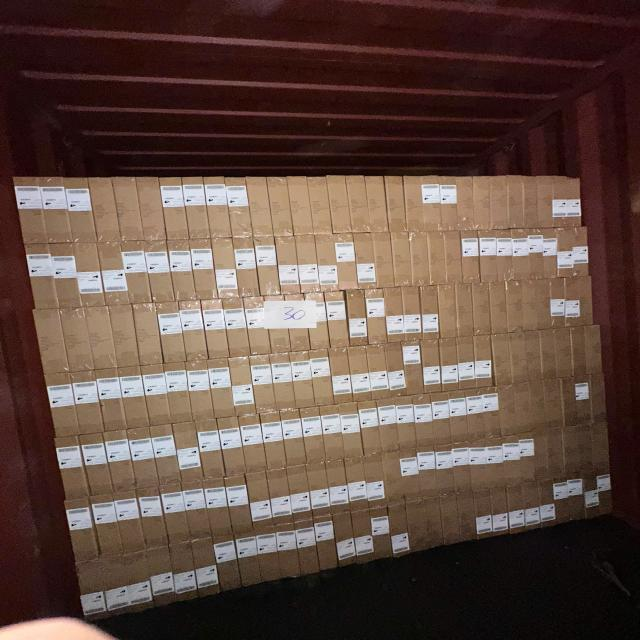Carton: (72, 558, 111, 624), (110, 489, 148, 554), (33, 308, 70, 374), (87, 493, 124, 559), (47, 242, 83, 307), (64, 499, 100, 563), (12, 177, 46, 244), (21, 246, 55, 312), (134, 488, 170, 550), (144, 544, 177, 610), (46, 371, 80, 435), (157, 482, 192, 544), (89, 178, 122, 243), (65, 178, 98, 243), (81, 433, 115, 496), (199, 477, 233, 540), (178, 479, 213, 540), (60, 310, 93, 374), (122, 550, 155, 614), (42, 178, 72, 247), (100, 242, 132, 306), (189, 536, 222, 598), (56, 435, 88, 498), (112, 178, 143, 242), (86, 307, 117, 371), (73, 244, 104, 308), (168, 540, 199, 604), (99, 557, 132, 617), (71, 372, 102, 434), (223, 474, 254, 536), (210, 533, 242, 593), (137, 178, 167, 241), (111, 306, 141, 369), (97, 368, 127, 431), (123, 242, 153, 305), (105, 431, 135, 493), (145, 242, 175, 303), (265, 466, 295, 526), (253, 524, 283, 584), (134, 305, 163, 366), (167, 242, 196, 303), (162, 178, 190, 241), (245, 472, 275, 530), (232, 530, 262, 588), (156, 305, 184, 366), (212, 240, 240, 300), (121, 368, 148, 430), (173, 423, 201, 482), (131, 428, 158, 489), (286, 463, 313, 524), (191, 241, 218, 301), (228, 178, 255, 238), (244, 296, 271, 356), (151, 425, 176, 489), (284, 294, 312, 351), (180, 301, 207, 360), (206, 178, 232, 239), (265, 295, 292, 353), (380, 450, 407, 508), (249, 177, 275, 237), (218, 418, 244, 478), (142, 366, 168, 426), (295, 517, 321, 577), (314, 512, 340, 572), (202, 300, 228, 359), (199, 422, 225, 481), (231, 358, 257, 417), (306, 460, 332, 519), (396, 448, 423, 504), (186, 362, 212, 420), (332, 510, 358, 568), (186, 179, 210, 241), (269, 178, 294, 237), (166, 364, 191, 423), (255, 239, 280, 298), (235, 240, 260, 299), (275, 523, 301, 579), (241, 414, 266, 472), (272, 354, 297, 412), (351, 508, 376, 566), (209, 360, 233, 420), (362, 457, 388, 512), (290, 178, 315, 235), (226, 299, 251, 356), (368, 504, 393, 561), (344, 460, 370, 514), (498, 432, 523, 488), (328, 177, 352, 235), (276, 239, 300, 297), (298, 237, 322, 295), (251, 356, 275, 414), (385, 502, 409, 560), (264, 415, 288, 472), (327, 292, 351, 348), (281, 411, 305, 467), (290, 353, 314, 409), (403, 499, 427, 555), (455, 488, 479, 544), (310, 178, 333, 235), (445, 390, 470, 442), (303, 410, 326, 466), (311, 352, 334, 408), (419, 175, 442, 231), (429, 393, 452, 449), (326, 464, 349, 520), (416, 444, 439, 500), (307, 293, 329, 351), (342, 402, 364, 460), (487, 484, 511, 537), (366, 177, 388, 234), (385, 175, 407, 232), (322, 406, 344, 463), (317, 237, 339, 294), (337, 234, 359, 291), (405, 177, 427, 234), (349, 349, 372, 403), (353, 234, 376, 288), (366, 346, 389, 400), (422, 496, 445, 550), (359, 401, 381, 457), (439, 490, 461, 546), (451, 441, 474, 494), (374, 235, 396, 290), (331, 348, 353, 403), (385, 342, 407, 397), (348, 178, 369, 235), (435, 441, 456, 498), (391, 233, 413, 287), (543, 424, 565, 478), (347, 292, 368, 348), (376, 398, 397, 454), (535, 477, 557, 530), (403, 288, 424, 343), (492, 335, 514, 387), (480, 386, 502, 438), (517, 428, 537, 485), (457, 176, 478, 230), (468, 438, 489, 492), (472, 486, 493, 540), (366, 290, 386, 346), (385, 288, 405, 344), (441, 177, 461, 233), (411, 233, 432, 286), (474, 335, 495, 388), (485, 435, 506, 488), (420, 287, 440, 342), (414, 395, 434, 450), (396, 396, 416, 451), (489, 177, 509, 232), (572, 422, 594, 472), (560, 424, 581, 476), (480, 230, 500, 284), (421, 340, 441, 394), (440, 339, 460, 393), (511, 332, 531, 386), (510, 383, 532, 432), (464, 389, 485, 440), (497, 385, 518, 436), (521, 481, 542, 532), (474, 177, 493, 233), (461, 231, 481, 284), (428, 232, 448, 285), (404, 342, 424, 395), (511, 228, 531, 281), (552, 328, 573, 378), (456, 338, 476, 390), (494, 230, 514, 282), (506, 483, 526, 535), (505, 281, 525, 332), (542, 380, 563, 428), (532, 426, 550, 482), (440, 287, 459, 340), (592, 419, 611, 472), (471, 285, 490, 337), (587, 374, 607, 423), (506, 174, 524, 228), (489, 285, 508, 336), (536, 175, 554, 228), (538, 329, 557, 379), (584, 325, 603, 375), (528, 381, 547, 431), (446, 232, 464, 284), (456, 286, 474, 338), (535, 278, 553, 330), (573, 375, 591, 427), (559, 378, 578, 427), (565, 474, 584, 523), (569, 326, 587, 377), (551, 175, 568, 228), (540, 228, 558, 278), (522, 176, 539, 228), (521, 279, 538, 331), (525, 330, 542, 382), (564, 276, 581, 327), (527, 228, 544, 279), (556, 227, 573, 278), (552, 476, 569, 526), (582, 474, 600, 520), (572, 225, 588, 276), (550, 277, 566, 328), (578, 276, 594, 326), (595, 471, 612, 517), (567, 176, 582, 227)
